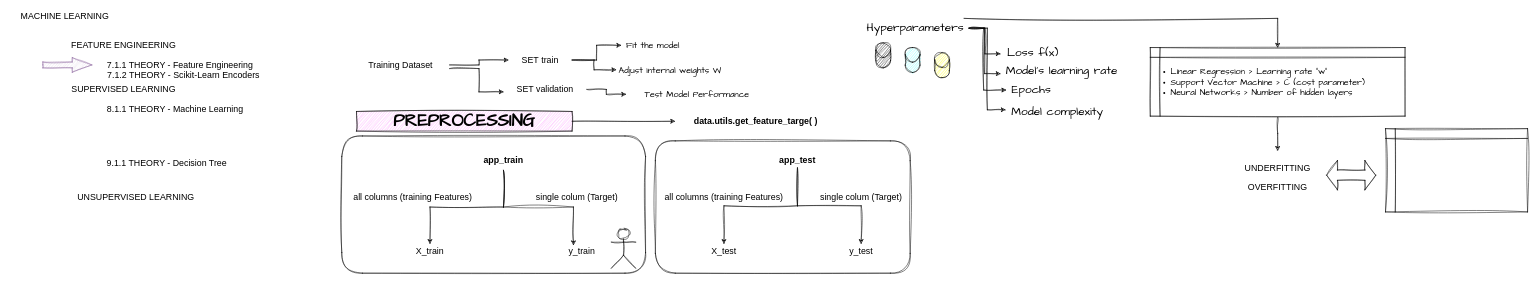
The diagram is 1536 pixels wide and 287 high, and some of its shapes have lost their labels. The shapes that lost their labels are listed below. From the top down, each one's centre as x and y in pixels, then its label:
At (x=1456, y=170): "GRID SEARCH RANDOM SEARCH BAYESIAN OPTIMIZATION".
At (x=623, y=248): "Actor".
